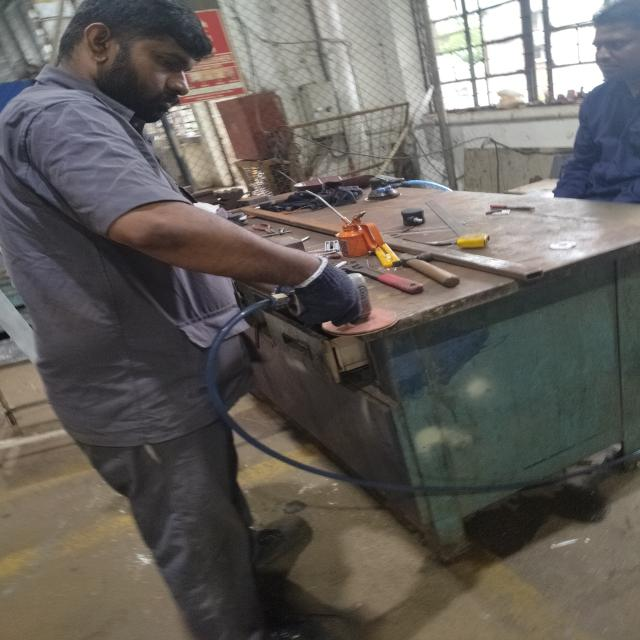Gloves-Detection: (283, 249, 362, 327)
